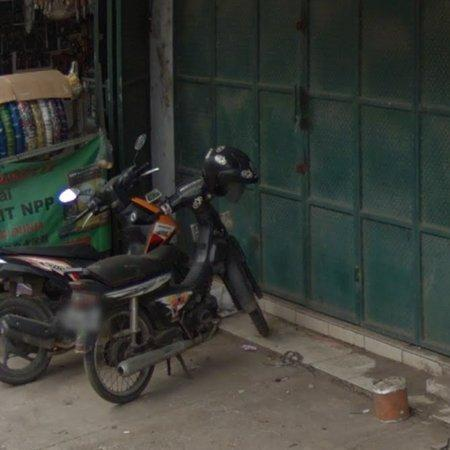motorcycles: (71, 145, 270, 404), (0, 163, 177, 386)
